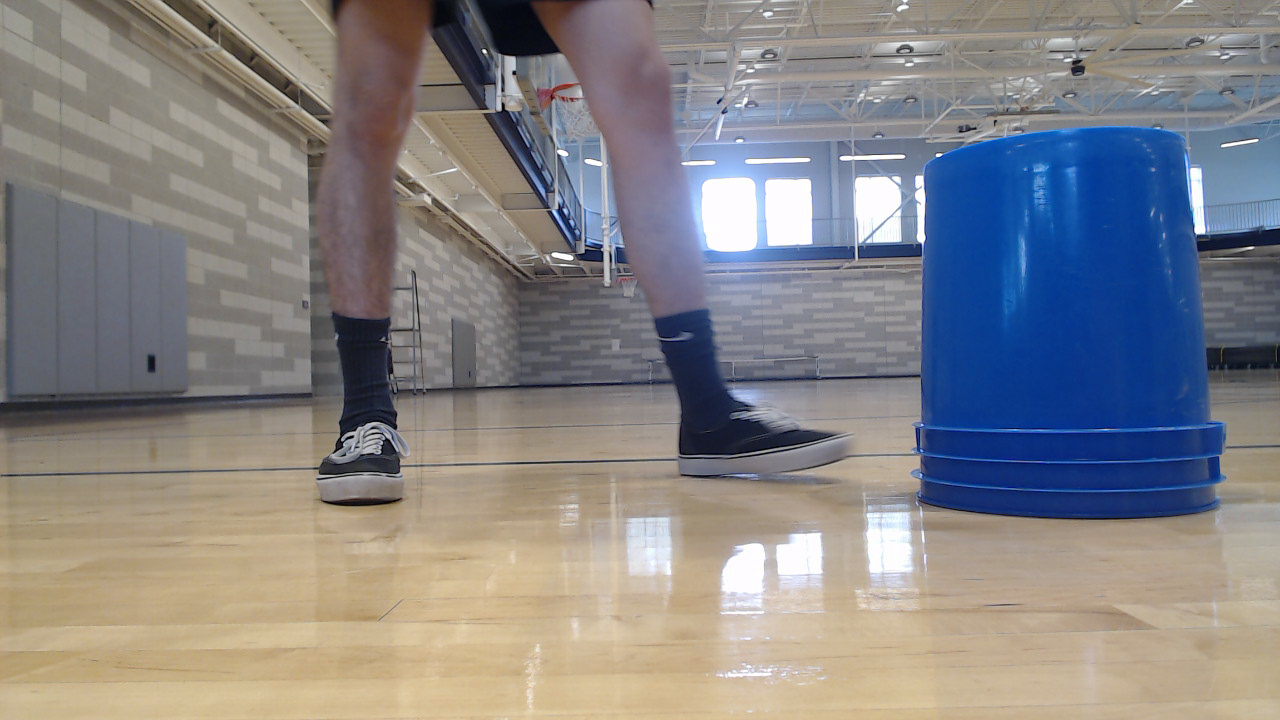blue_bucket: (918, 131, 1235, 524)
